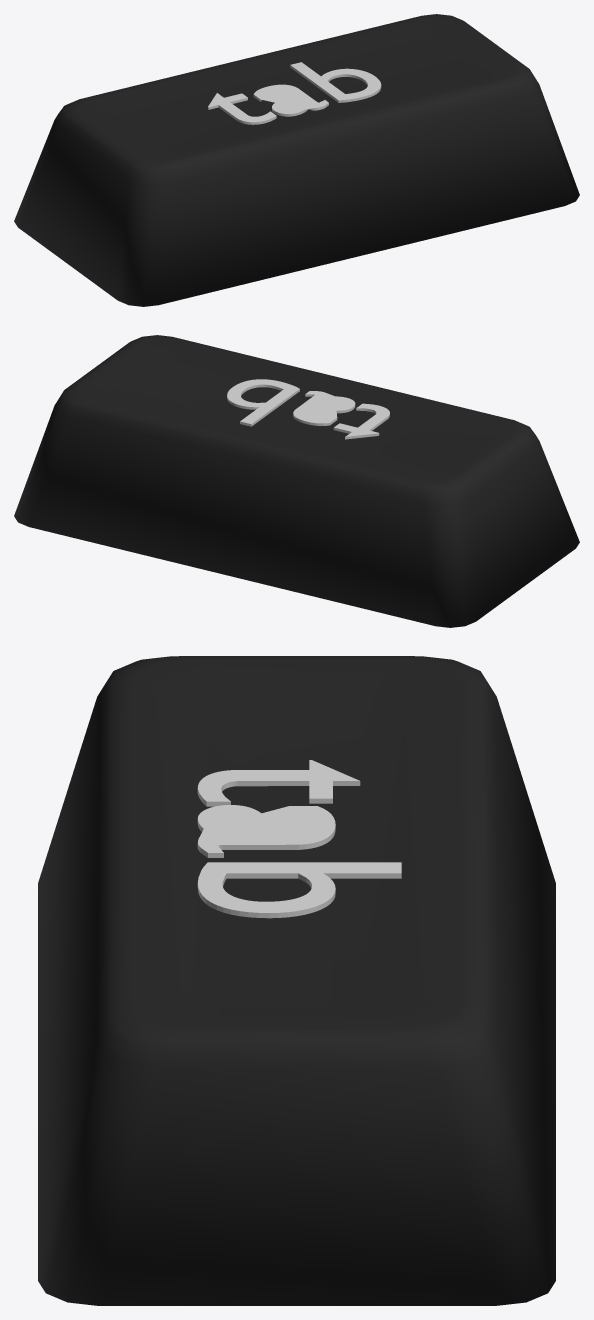
The model's file is TabKey.fbx.
The picture shows the model from 3 angles, top to bottom: view 1: azimuth 30°, elevation 25°; view 2: azimuth 150°, elevation 25°; view 3: azimuth 270°, elevation 25°; orthographic projection. The views are drawn at different scales.
Parts seen in each view (by area): view 1: KeyCap.Tab; view 2: KeyCap.Tab; view 3: KeyCap.Tab.
Boxes of the visible parts, x1=… form: KeyCap.Tab: x1=14, y1=14, x2=579, y2=306; KeyCap.Tab: x1=14, y1=335, x2=579, y2=627; KeyCap.Tab: x1=38, y1=656, x2=555, y2=1305.
Bounding box in the file's own units: 109 × 27.23 × 53.55.
1 material, 1 textured.
